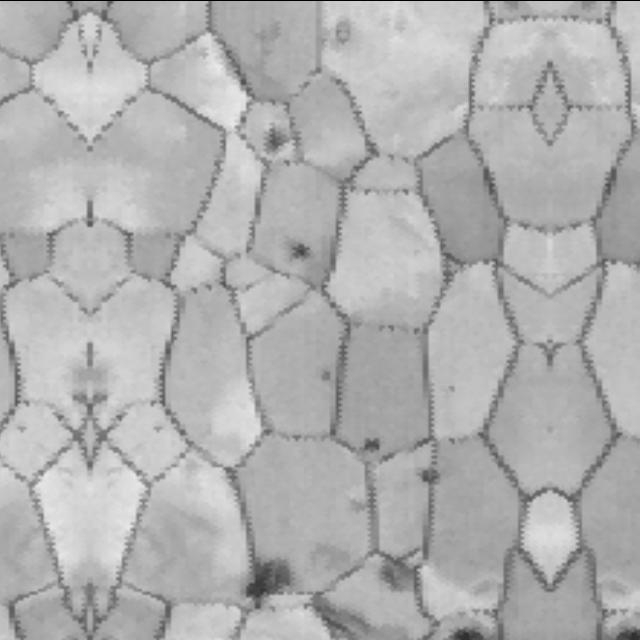good_void: (241, 545, 295, 614), (308, 597, 378, 637), (372, 557, 416, 599), (324, 13, 358, 53), (90, 354, 116, 406), (62, 354, 88, 406), (343, 490, 372, 529), (444, 624, 488, 640), (288, 242, 315, 267), (260, 127, 287, 151), (610, 624, 640, 640), (416, 466, 442, 484), (440, 374, 461, 394), (316, 365, 332, 387), (360, 438, 379, 451)
